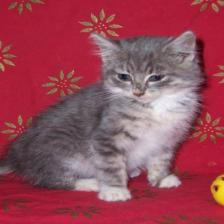cat: (89, 31, 209, 107)
